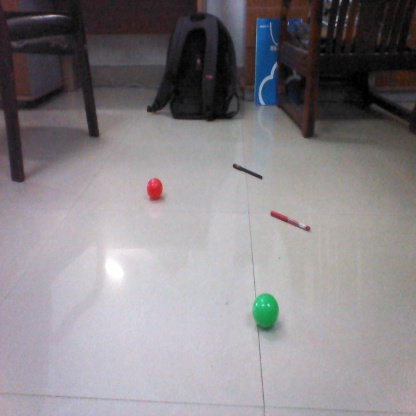ball: (251, 290, 282, 329), (142, 177, 168, 201)
pen: (270, 210, 311, 232), (231, 160, 265, 180)
